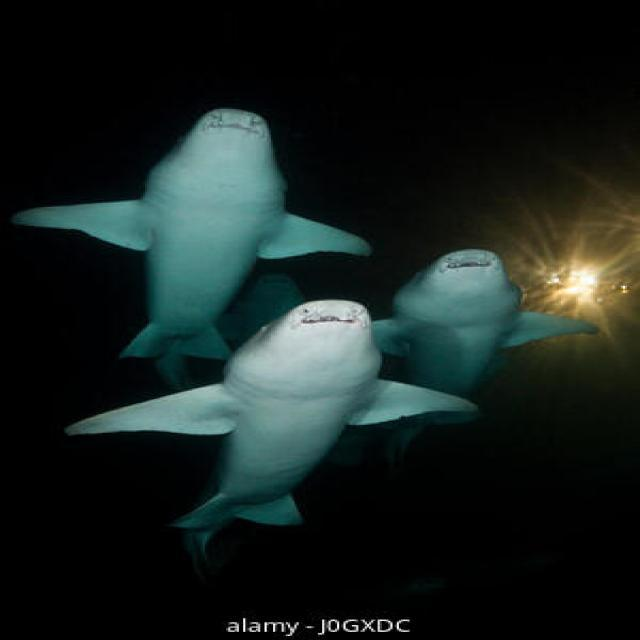Shark: (2, 78, 606, 562)
